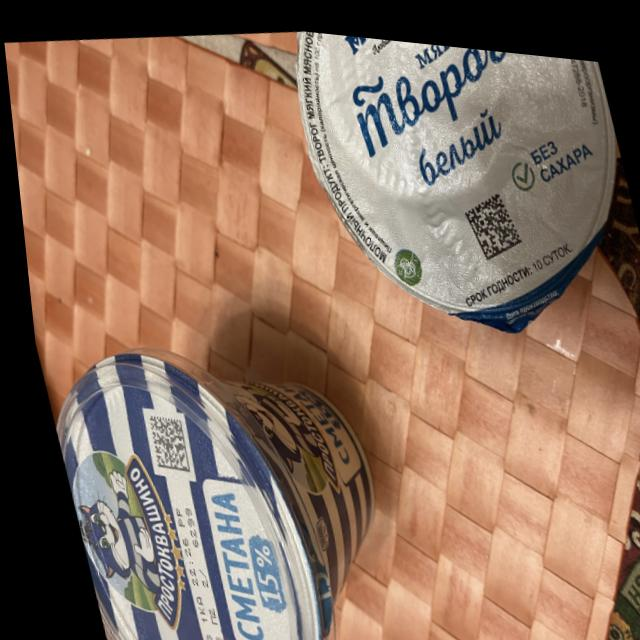datamatrix: (456, 177, 523, 256), (137, 408, 185, 474)
